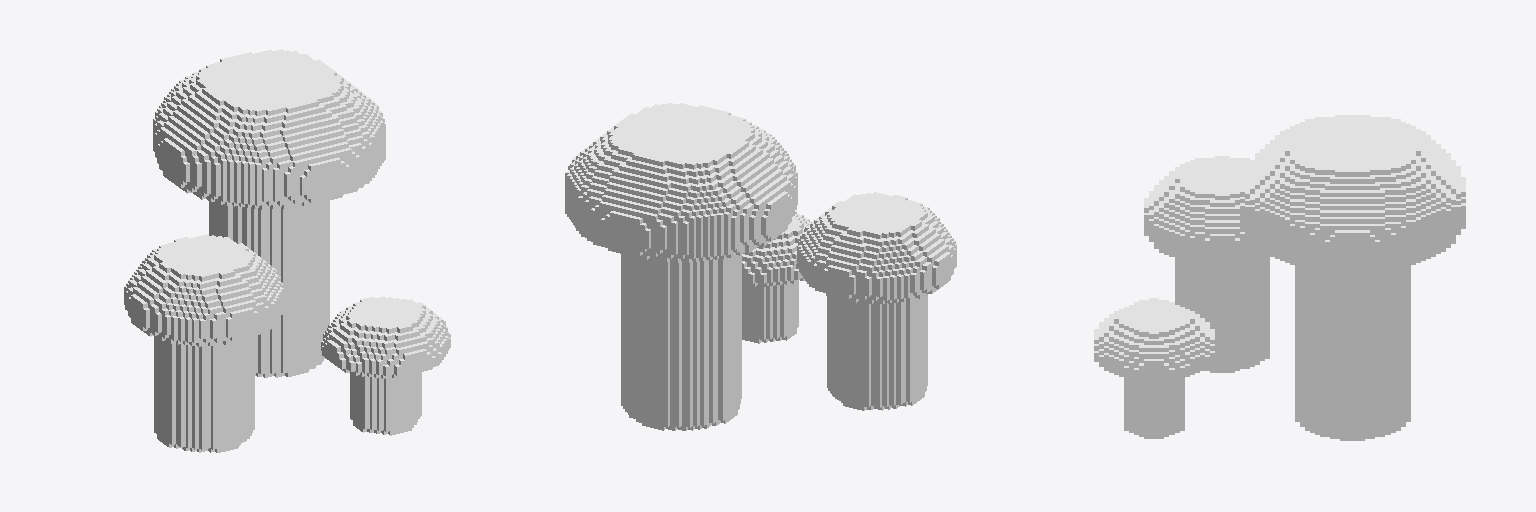
Rendered from mushroom_gimick.obj.
3 views of the same model, side by side, from view 1: azimuth 30°, elevation 25°; view 2: azimuth 150°, elevation 25°; view 3: azimuth 270°, elevation 25° (orthographic).
Visible parts, largest first — view 1: object 1; view 2: object 1; view 3: object 1.
Part boxes in pixels (x1,y1,x2,y2): object 1: (124,49,450,452); object 1: (565,103,956,430); object 1: (1094,115,1465,440).
Bounding box in the file's own units: 6.8 × 6 × 7.4.